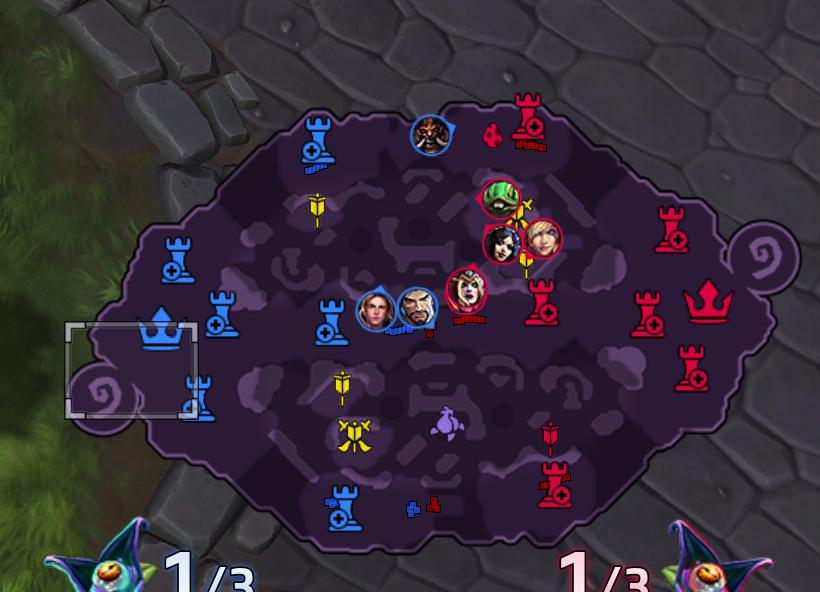blue player: (406, 110, 456, 160), (354, 287, 397, 332), (398, 288, 441, 332)
red player: (446, 267, 486, 315), (477, 178, 522, 220), (524, 216, 564, 260), (482, 223, 522, 266)
